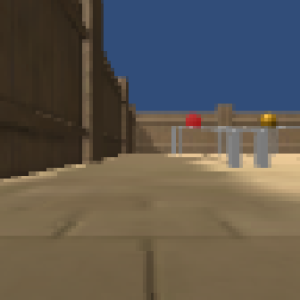badGoal: (184, 113, 203, 128)
goodGoalMulti: (256, 112, 276, 127)
wall: (226, 128, 243, 168), (254, 128, 271, 168), (171, 125, 182, 155), (215, 126, 224, 159)
